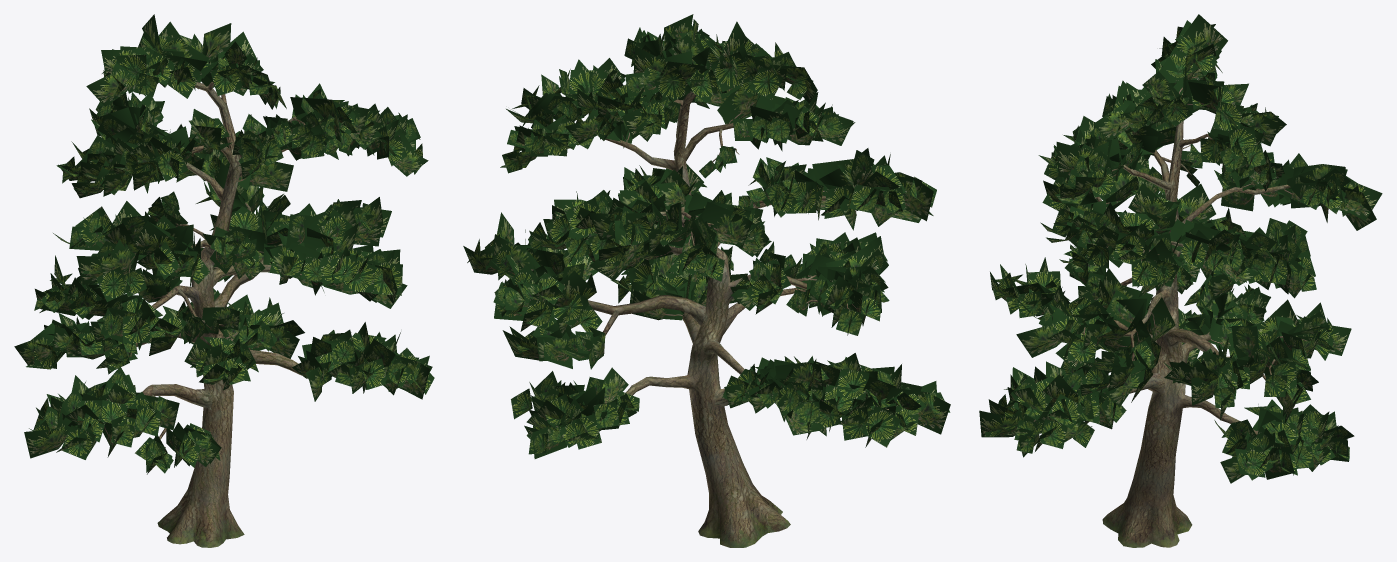
Rendered from Tree2.fbx.
3 views of the same model, side by side, from view 1: azimuth 30°, elevation 25°; view 2: azimuth 150°, elevation 25°; view 3: azimuth 270°, elevation 25° (orthographic). The views are drawn at different scales.
Visible parts, largest first — view 1: SM_cmn_mount_RedPine_01a; view 2: SM_cmn_mount_RedPine_01a; view 3: SM_cmn_mount_RedPine_01a.
Boxes of the visible parts, <box> form: SM_cmn_mount_RedPine_01a: <box>14,14,434,547</box>; SM_cmn_mount_RedPine_01a: <box>463,14,950,547</box>; SM_cmn_mount_RedPine_01a: <box>979,14,1382,547</box>.
Size of the model in its own units: 699 by 817 by 587.
